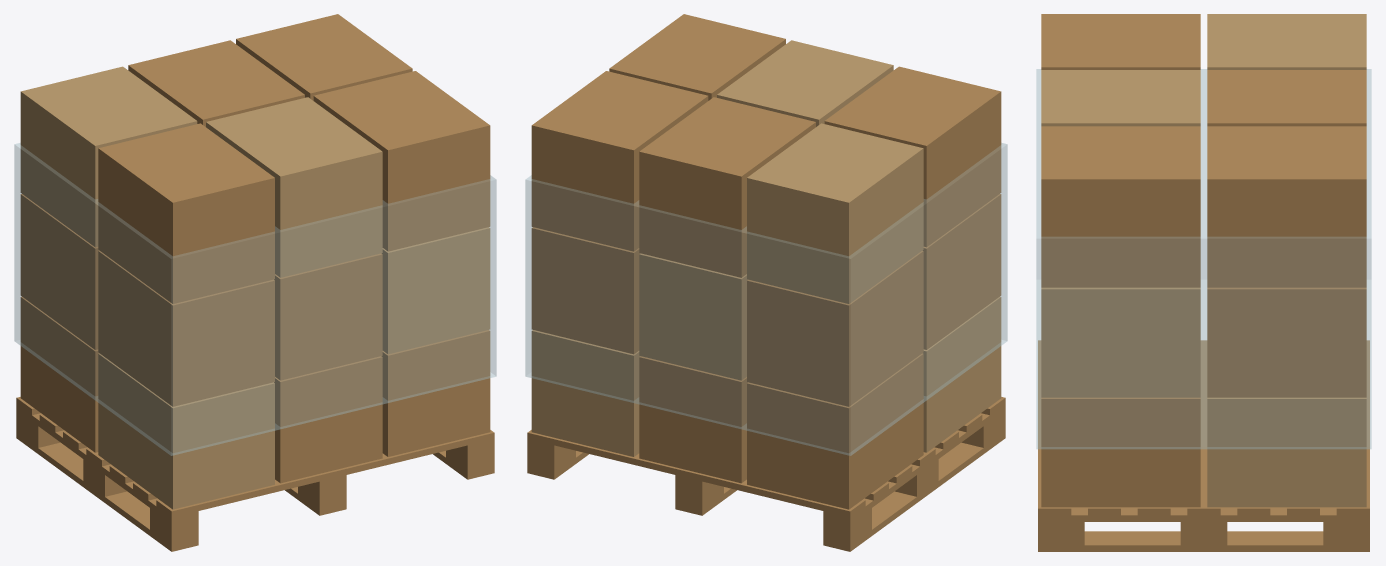
The model's file is plant.store.pallet_loaded.glb.
3 views of the same model, side by side, from view 1: azimuth 30°, elevation 25°; view 2: azimuth 150°, elevation 25°; view 3: azimuth 270°, elevation 25° (orthographic). The views are drawn at different scales.
Visible parts, largest first — view 1: main__softwood, main__glass, main__plywood; view 2: main__softwood, main__glass, main__plywood; view 3: main__softwood, main__glass, main__plywood.
Boxes of the visible parts, x1,y1,x2,y2 form: main__softwood: (16,14,494,551); main__glass: (14,143,496,455); main__plywood: (20,66,490,509); main__softwood: (527,14,1005,551); main__glass: (525,143,1007,455); main__plywood: (531,40,1001,456); main__softwood: (1038,14,1369,551); main__glass: (1036,69,1371,448); main__plywood: (1041,14,1366,507).
Bounding box in the file's own units: 1.21 × 1.23 × 1.01.
